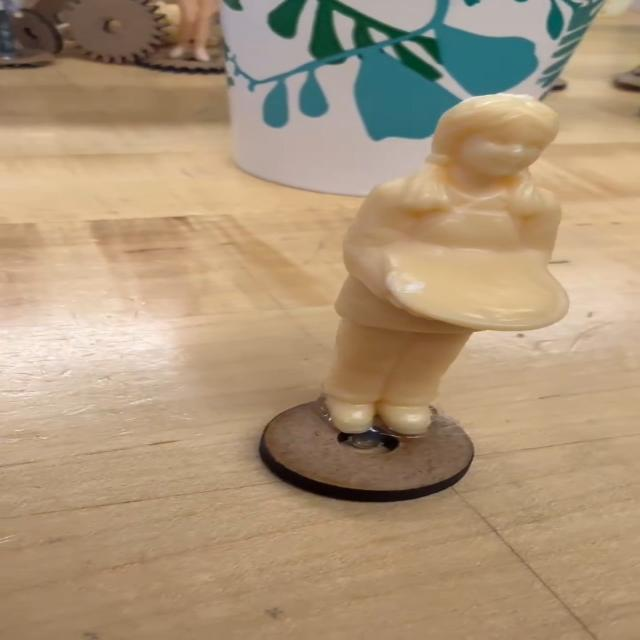Unauthorized: (304, 79, 600, 457)
